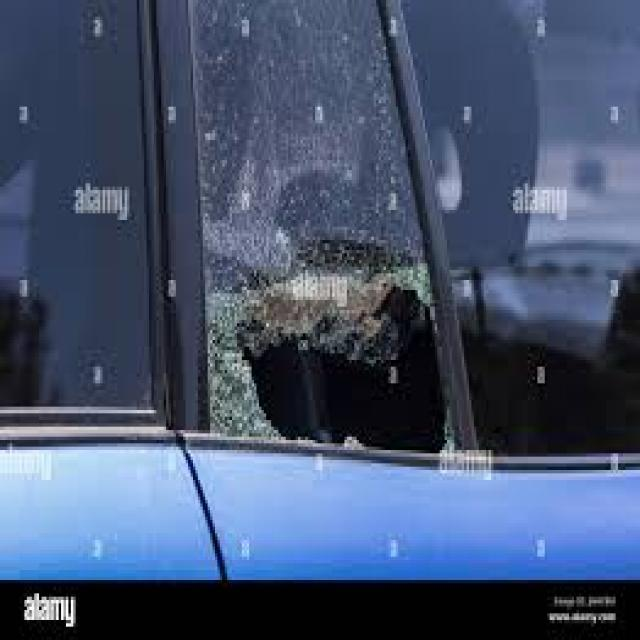damaged-window: (190, 0, 472, 460)
